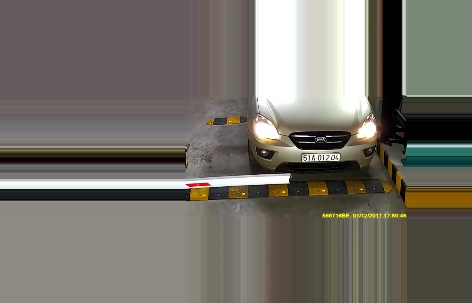plate: (300, 151, 342, 163)
